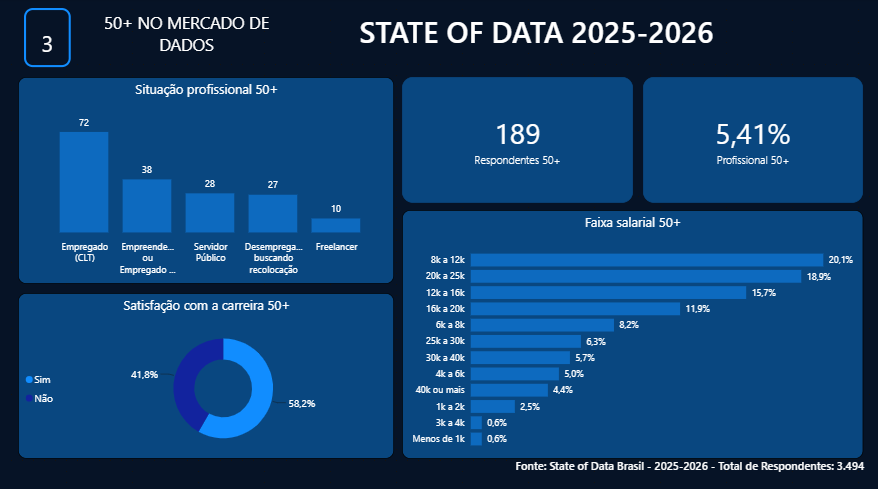

The dashboard page shown, as its layout file describes it:
{"tool":"powerbi","page":{"name":"50+","canvas":[1280,720],"ordinal":2},"visuals":[{"type":"cardVisual","fields":{"Data":["Medidas.profissional_50_mais"]},"box":[584.7,114.9,336,183.3],"z":0},{"type":"cardVisual","fields":{"Data":["Medidas.percentual_50_mais"]},"box":[935.3,114.9,320,183.3],"z":1000},{"type":"clusteredColumnChart","title":"Situação profissional 50+","fields":{"Category":["principal.situação_de_trabalho"],"Y":["Medidas.profissional_50_mais"]},"box":[26.2,114.9,546.9,301.1],"z":2000},{"type":"clusteredBarChart","title":"Faixa salarial 50+","fields":{"Category":["principal.faixa_salarial"],"Y":["Divide(Medidas.profissional_50_mais, ScopedEval(Medidas.profissional_50_mais, []))"]},"box":[584.7,308.4,670.5,362.2],"z":4000},{"type":"donutChart","title":"Satisfação com a carreira 50+","fields":{"Y":["Medidas.profissional_50_mais"],"Category":["principal.satisfeito_atualmente"]},"box":[26.2,429.1,546.9,241.5],"z":5000},{"type":"textbox","box":[34.9,14.5,68.4,85.8],"z":6000},{"type":"textbox","box":[107.6,14.5,327.3,85.8],"z":7000},{"type":"textbox","box":[446.5,14.5,667.6,104.7],"z":8000},{"type":"textbox","box":[744.4,665.3,535.6,43.8],"z":8001}]}

Visuals, with their boxes in screenshot pixels (x1, y1, x2, y2), scaled from the page's 1280x720 canvas onto the 878x489 screenshot:
cardVisual - Medidas.profissional_50_mais: Rect(401, 78, 632, 203)
cardVisual - Medidas.percentual_50_mais: Rect(642, 78, 861, 203)
"Situação profissional 50+" clusteredColumnChart: Rect(18, 78, 393, 283)
"Faixa salarial 50+" clusteredBarChart: Rect(401, 209, 861, 455)
"Satisfação com a carreira 50+" donutChart: Rect(18, 291, 393, 455)
textbox: Rect(24, 10, 71, 68)
textbox: Rect(74, 10, 298, 68)
textbox: Rect(306, 10, 764, 81)
textbox: Rect(511, 452, 877, 482)
